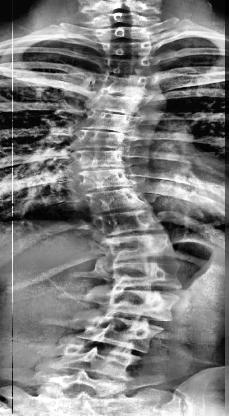Vertebrae: (78, 317, 168, 349), (46, 346, 138, 374), (100, 233, 184, 260), (94, 292, 184, 315), (109, 265, 185, 291), (92, 210, 168, 234), (88, 88, 146, 116), (71, 168, 135, 190), (82, 190, 152, 210), (72, 126, 129, 150), (70, 150, 126, 170), (79, 111, 137, 129), (99, 74, 150, 94), (98, 38, 154, 52), (92, 23, 156, 35), (109, 58, 153, 70)
